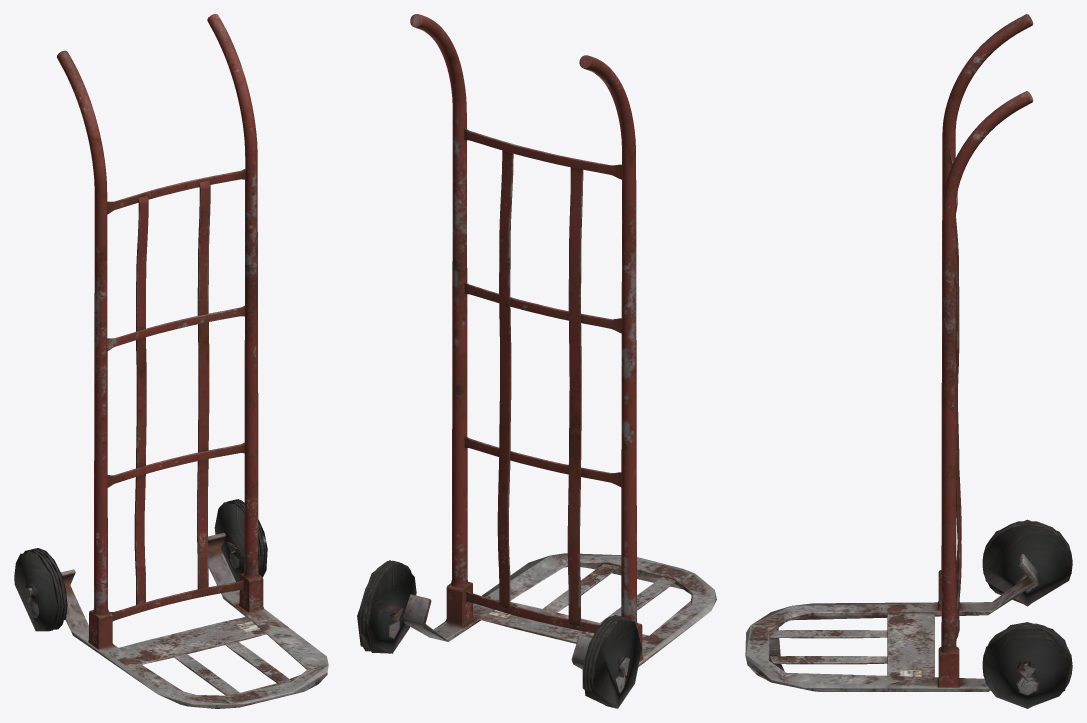
The model's file is handTruck.glb.
3 views of the same model, side by side, from view 1: azimuth 30°, elevation 25°; view 2: azimuth 150°, elevation 25°; view 3: azimuth 270°, elevation 25° (orthographic). The views are drawn at different scales.
Parts seen in each view (by area): view 1: hand_truck; view 2: hand_truck; view 3: hand_truck.
Part boxes in pixels (left/top/right/bottom): hand_truck: left=14, top=14, right=328, bottom=708; hand_truck: left=357, top=14, right=716, bottom=708; hand_truck: left=745, top=14, right=1072, bottom=708.
Size of the model in its own units: 0.5789 by 1.4 by 0.6921.
1 material, 1 textured.
